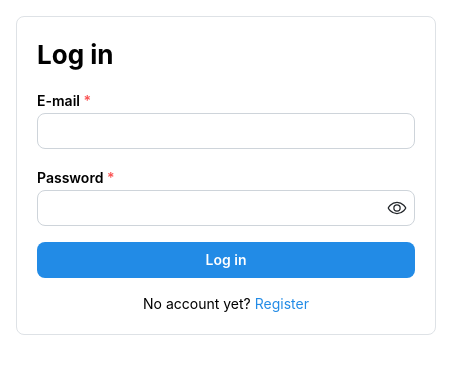
Test case: LoginPage › validates in the browser before calling the API
Click the button "Log in".
click(226, 260)  # box [37,242,415,278]
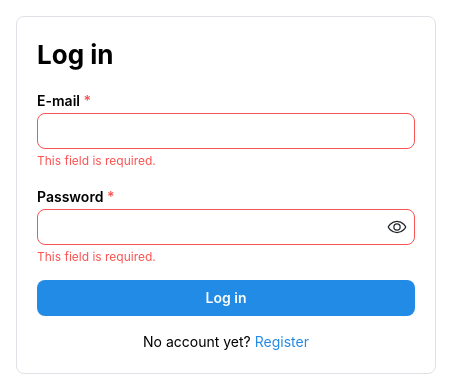
Now the text "This field is required." is shown 2 times, box [37,153,156,168]; [37,249,156,264]
